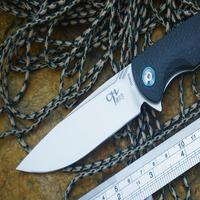knife: (13, 21, 200, 180)
